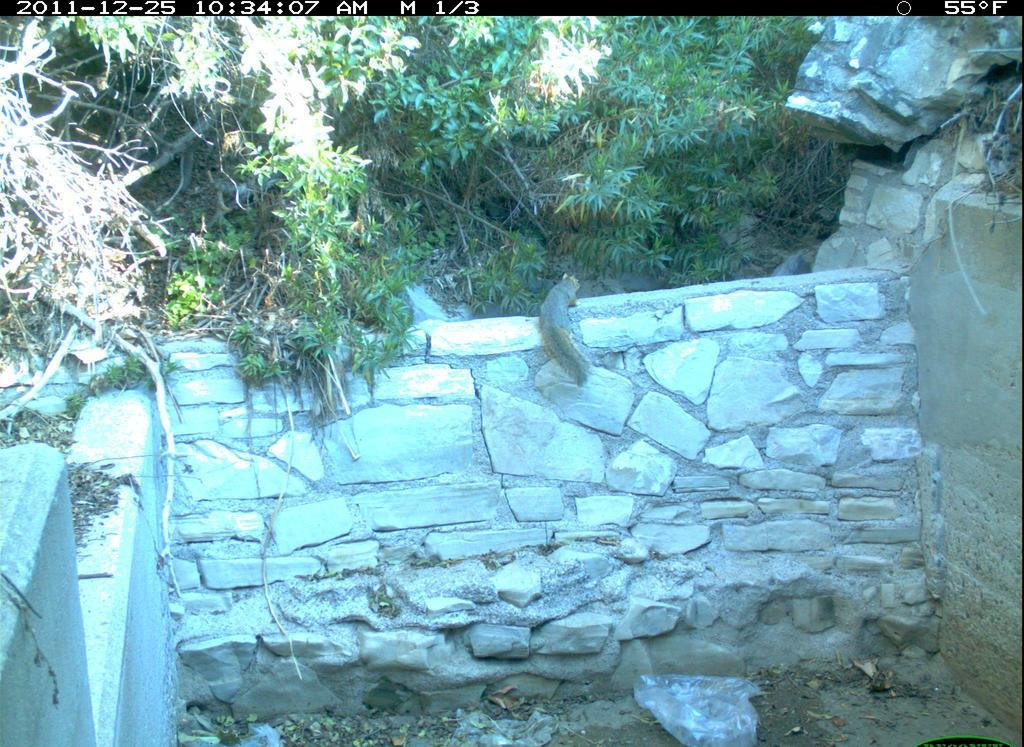squirrel: (532, 260, 607, 393)
